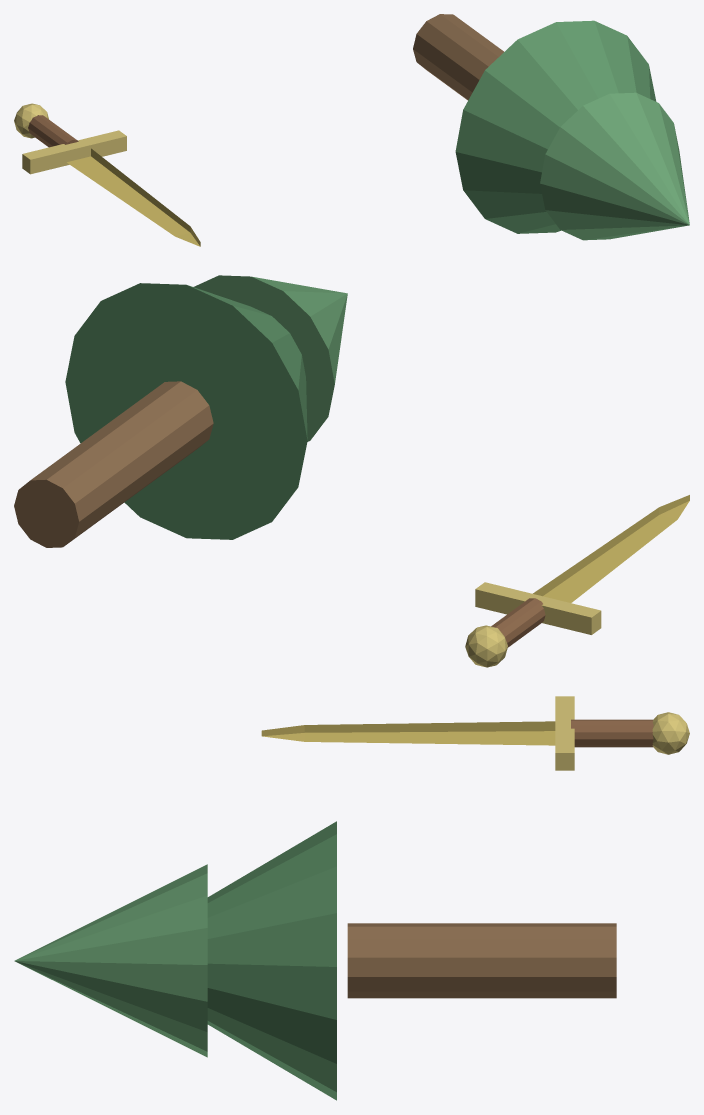
The model's file is golden_sword_and_oak_tree.glb.
3 views of the same model, one above another, from view 1: azimuth 30°, elevation 25°; view 2: azimuth 150°, elevation 25°; view 3: azimuth 270°, elevation 25° (orthographic). The views are drawn at different scales.
Visible parts, largest first — view 1: tree_1_1, tree_1_2, tree_1_0, sword_0_0, sword_0_1, sword_0_2, sword_0_3; view 2: tree_1_1, tree_1_0, tree_1_2, sword_0_0, sword_0_1, sword_0_3, sword_0_2; view 3: tree_1_1, tree_1_0, tree_1_2, sword_0_0, sword_0_2, sword_0_1, sword_0_3.
Boxes of the visible parts, left/top/right/bottom form: tree_1_1: left=455, top=20, right=656, bottom=233; tree_1_2: left=540, top=92, right=689, bottom=240; tree_1_0: left=413, top=14, right=503, bottom=100; sword_0_0: left=67, top=148, right=200, bottom=246; sword_0_1: left=22, top=130, right=126, bottom=174; sword_0_2: left=28, top=115, right=78, bottom=147; sword_0_3: left=14, top=103, right=48, bottom=138; tree_1_1: left=65, top=283, right=307, bottom=539; tree_1_0: left=14, top=381, right=213, bottom=547; tree_1_2: left=194, top=275, right=347, bottom=441; sword_0_0: left=533, top=495, right=689, bottom=602; sword_0_1: left=475, top=582, right=601, bottom=634; sword_0_3: left=465, top=625, right=507, bottom=667; sword_0_2: left=491, top=598, right=545, bottom=647; tree_1_1: left=207, top=821, right=336, bottom=1100; tree_1_0: left=347, top=923, right=616, bottom=998; tree_1_2: left=14, top=864, right=207, bottom=1057; sword_0_0: left=261, top=721, right=555, bottom=745; sword_0_2: left=571, top=719, right=653, bottom=747; sword_0_1: left=555, top=696, right=574, bottom=770; sword_0_3: left=652, top=712, right=689, bottom=754.
Size of the model in its own units: 6.92 by 2.6 by 6.28.
